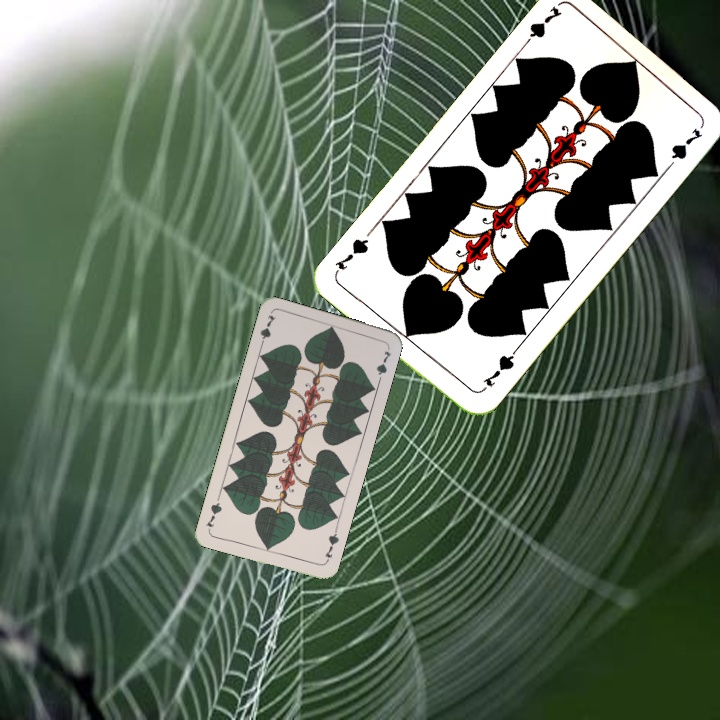G7: (517, 2, 565, 52), (475, 346, 519, 395), (320, 525, 342, 565), (256, 311, 278, 350)
